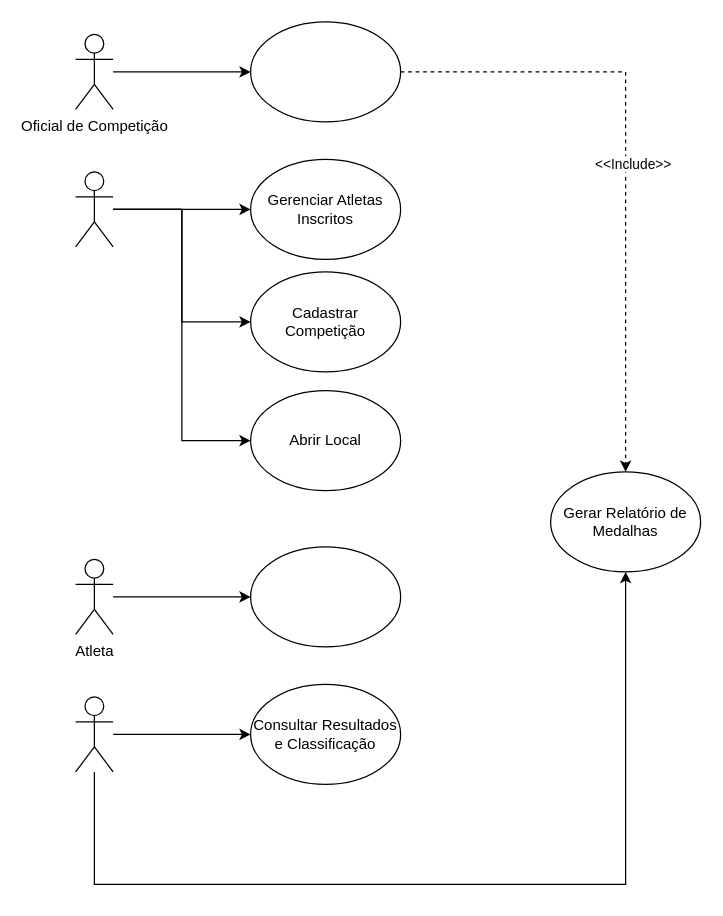
Image size: 723x916. Some labels were removed from this diagram. The shapes that lost their labels are listed below. From the top down, each one's centre as x and y in pixels, then its label:
At pixel 325 71: "Registrar Resultados".
At pixel 93 209: "Administrador SGO".
At pixel 325 596: "Inscrever Atleta em Competição".
At pixel 93 734: "Usuário Geral".
